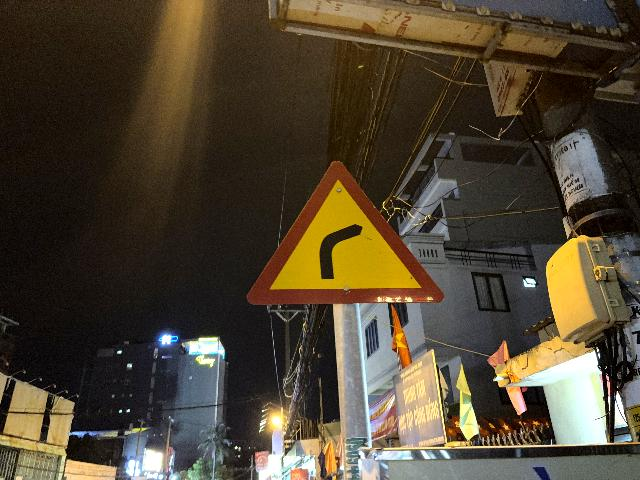cho-ngoat-nguy-hiem-ben-phai: (247, 160, 448, 306)
